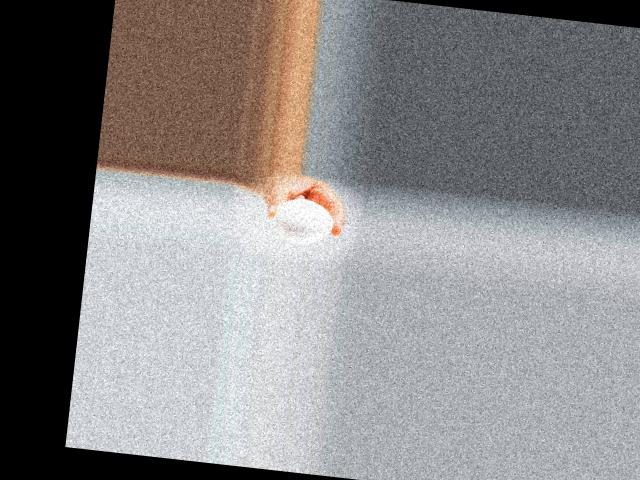egg: (273, 196, 336, 247)
